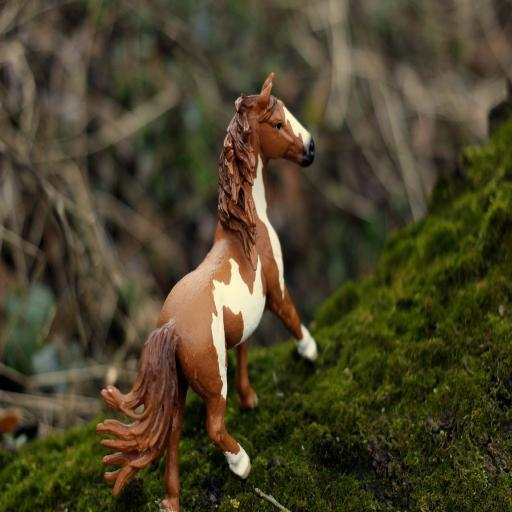horse: (96, 72, 318, 512)
